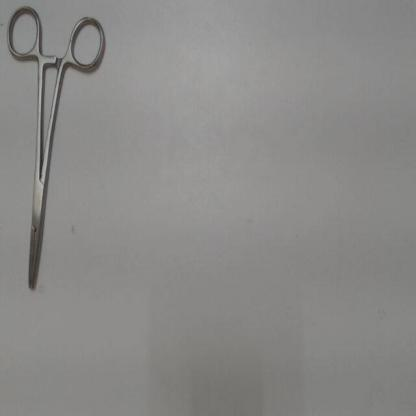Mayo Needle Holder: (2, 1, 108, 304)
